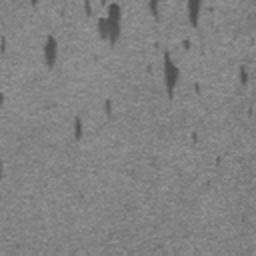Red iron sheet: (83, 0, 120, 47), (164, 52, 180, 100), (187, 0, 202, 28), (44, 37, 56, 68), (74, 116, 83, 141), (148, 0, 160, 18), (241, 65, 248, 84), (193, 82, 200, 95), (104, 100, 111, 113), (182, 40, 191, 50)
